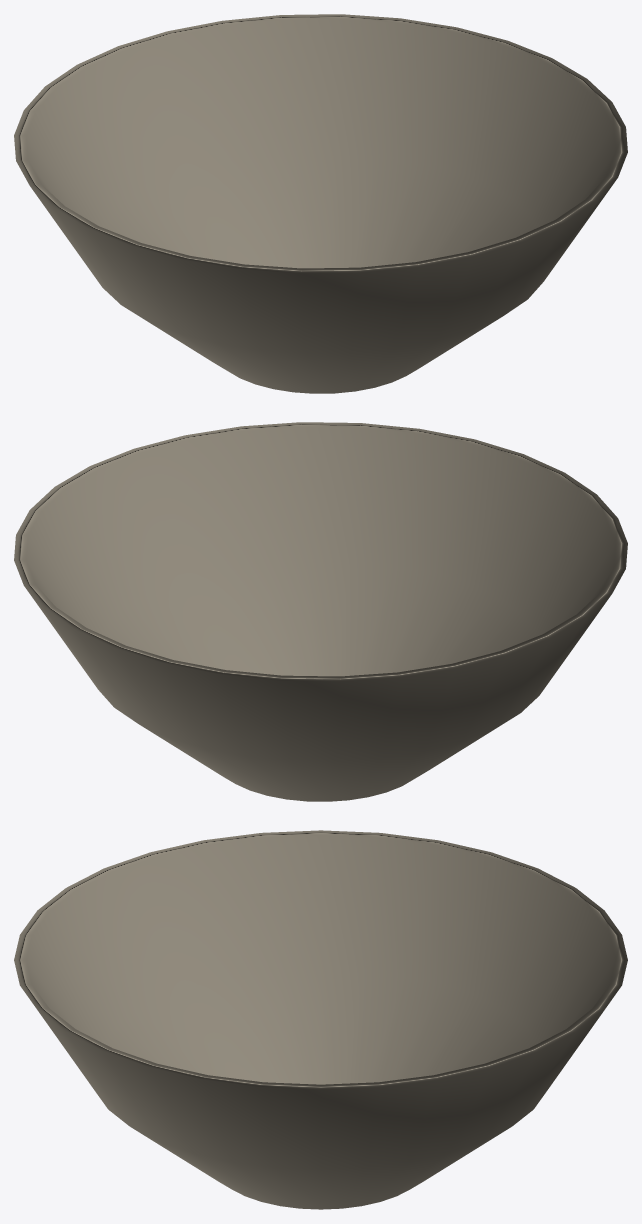
Rendered from HIN-BWL-std.glb.
3 renders of one model, top to bottom at view 1: azimuth 30°, elevation 25°; view 2: azimuth 150°, elevation 25°; view 3: azimuth 270°, elevation 25°, orthographic.
Visible parts, largest first — view 1: HIN-BWL-std; view 2: HIN-BWL-std; view 3: HIN-BWL-std.
Boxes of the visible parts, left/top/right/bottom form: HIN-BWL-std: left=14, top=14, right=627, bottom=393; HIN-BWL-std: left=14, top=422, right=627, bottom=801; HIN-BWL-std: left=14, top=830, right=627, bottom=1209.
Size of the model in its own units: 0.3 by 0.11 by 0.3.
